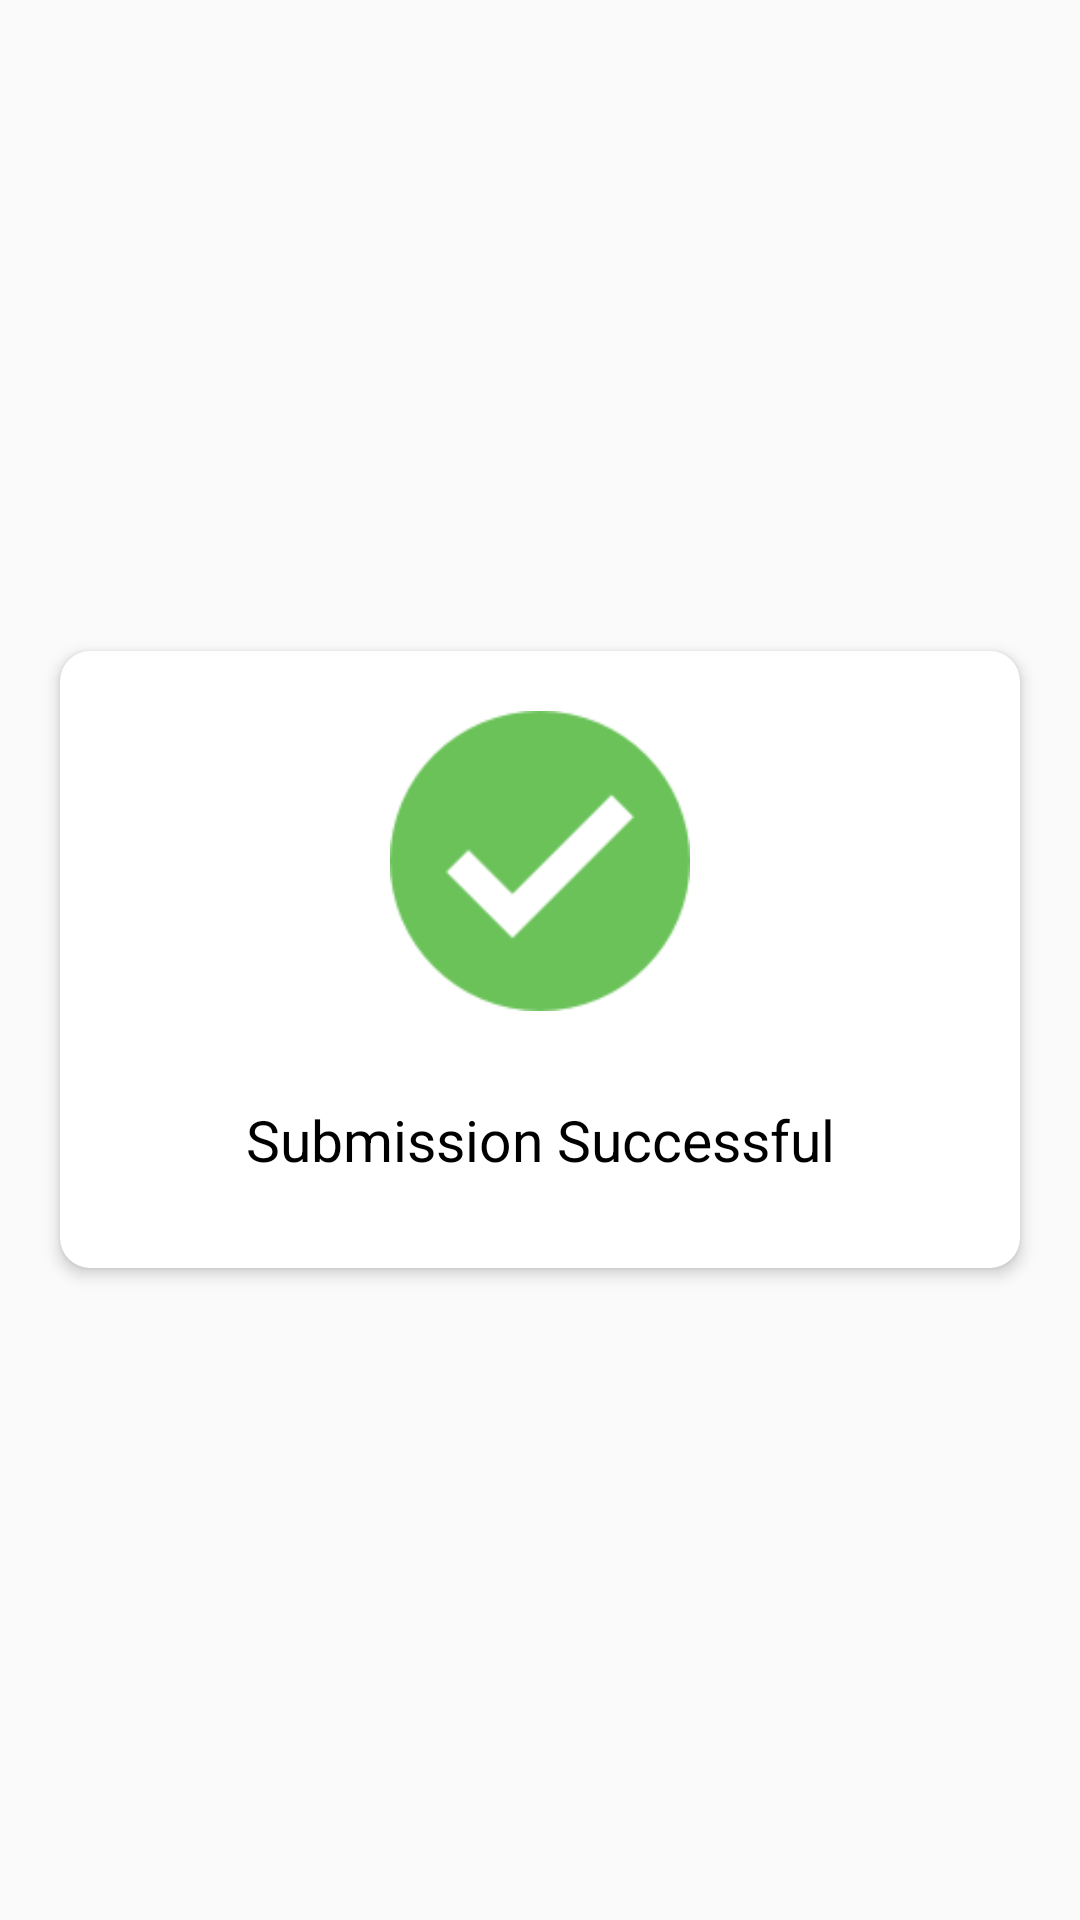

Icons on this 1080px×1920px Android screen, each with its box as (left=x1, top=y1, right=x2, bottom=y2):
Submit: (left=390, top=711, right=690, bottom=1011)
